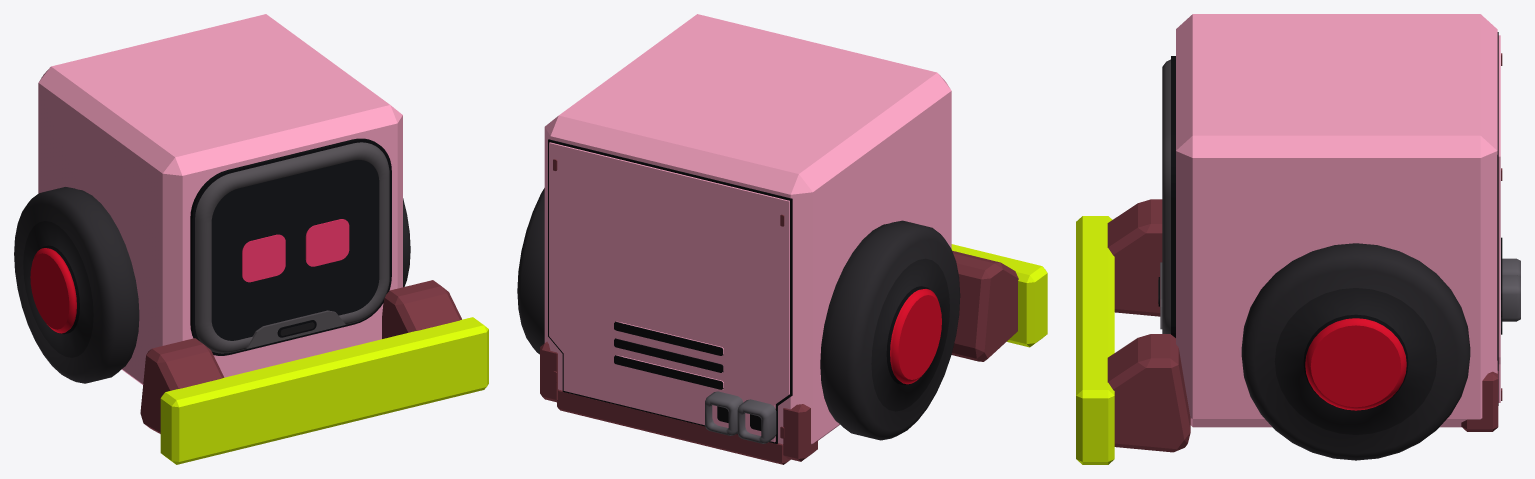
The model's file is PinkGoalkeeper.fbx.
The picture shows the model from 3 angles, left to right: view 1: azimuth 30°, elevation 25°; view 2: azimuth 150°, elevation 25°; view 3: azimuth 270°, elevation 25°; orthographic projection. The views are drawn at different scales.
Visible parts, largest first — view 1: PinkGoalkeeper; view 2: PinkGoalkeeper; view 3: PinkGoalkeeper.
Boxes of the visible parts, x1,y1,x2,y2 form: PinkGoalkeeper: (14, 14, 488, 464); PinkGoalkeeper: (517, 14, 1047, 464); PinkGoalkeeper: (1076, 14, 1520, 464).
Size of the model in its own units: 1.35 by 1.04 by 1.38.
